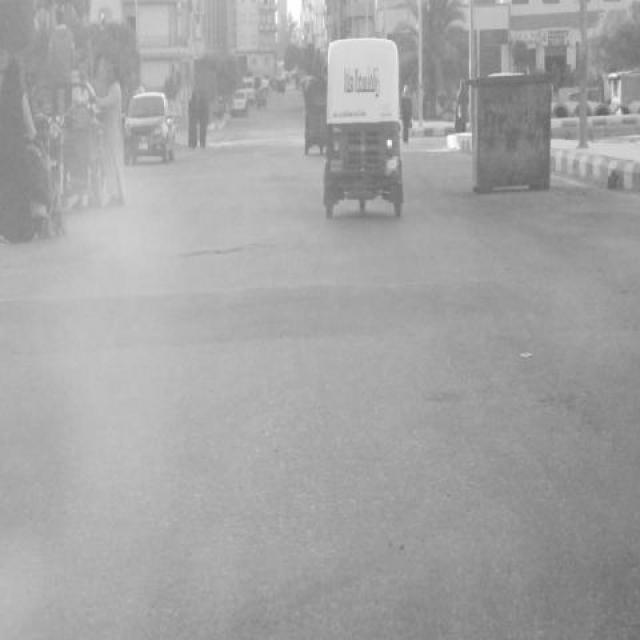Pothole: (167, 234, 256, 268)
Unmarked Bump: (1, 270, 516, 363)
